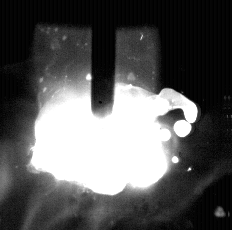arame: (92, 0, 115, 118)
poca: (34, 0, 164, 230)
